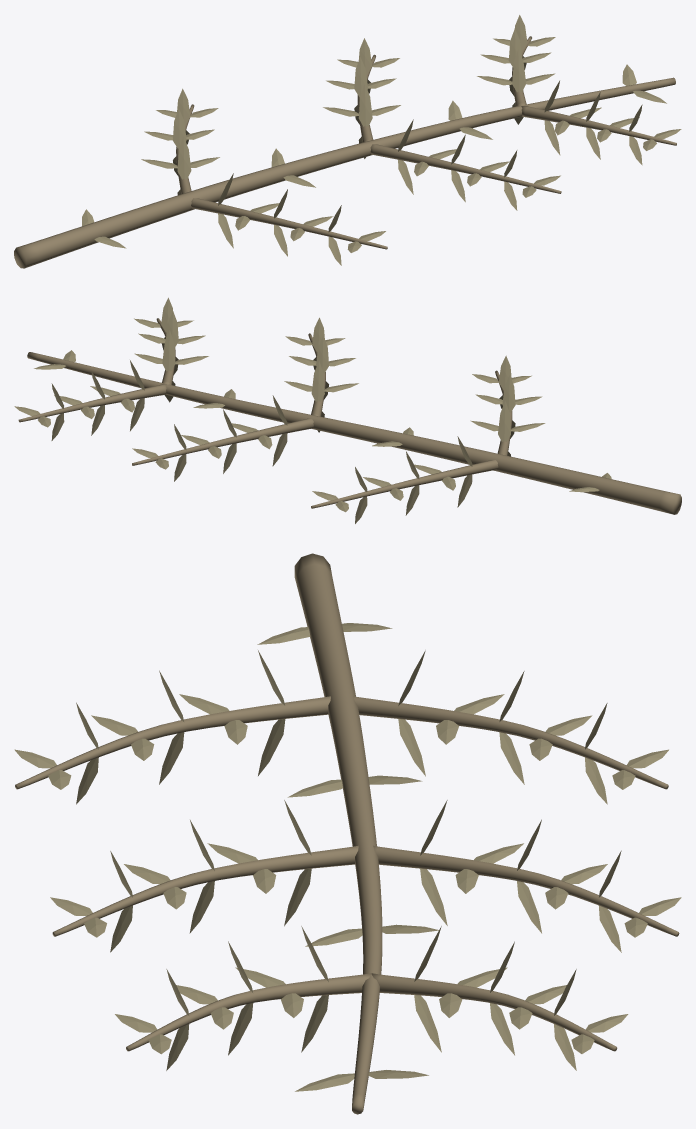
Rendered from metasequoia.glb.
The picture shows the model from 3 angles, top to bottom: view 1: azimuth 30°, elevation 25°; view 2: azimuth 150°, elevation 25°; view 3: azimuth 270°, elevation 25°; orthographic projection. The views are drawn at different scales.
Parts seen in each view (by area): view 1: preserved-cut-branch-organ-with-opposite-lateral-attachments, paired-and-decussate-small-flat-leaves-with-topological-spac; view 2: preserved-cut-branch-organ-with-opposite-lateral-attachments, paired-and-decussate-small-flat-leaves-with-topological-spac; view 3: preserved-cut-branch-organ-with-opposite-lateral-attachments, paired-and-decussate-small-flat-leaves-with-topological-spac.
Boxes of the visible parts, box(x1,y1,x2,y2) form: preserved-cut-branch-organ-with-opposite-lateral-attachments: box(14, 36, 676, 268); paired-and-decussate-small-flat-leaves-with-topological-spac: box(82, 15, 681, 265); preserved-cut-branch-organ-with-opposite-lateral-attachments: box(18, 318, 681, 514); paired-and-decussate-small-flat-leaves-with-topological-spac: box(14, 297, 611, 523); preserved-cut-branch-organ-with-opposite-lateral-attachments: box(15, 553, 679, 1114); paired-and-decussate-small-flat-leaves-with-topological-spac: box(14, 623, 681, 1091).
Bounding box in the file's own units: 0.22 × 0.0247 × 0.1137.
